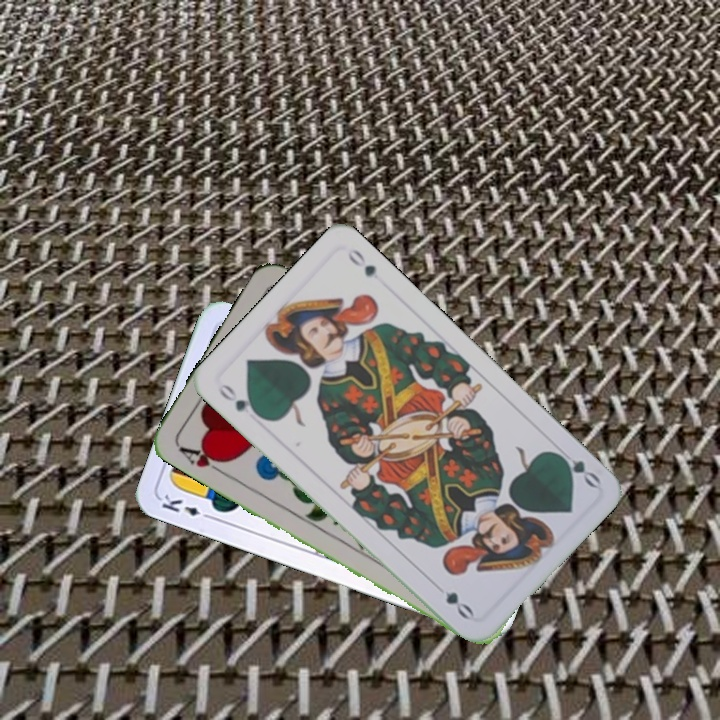EK: (158, 490, 215, 523)
GO: (550, 443, 603, 491), (213, 380, 265, 421)
HA: (175, 442, 231, 479)
